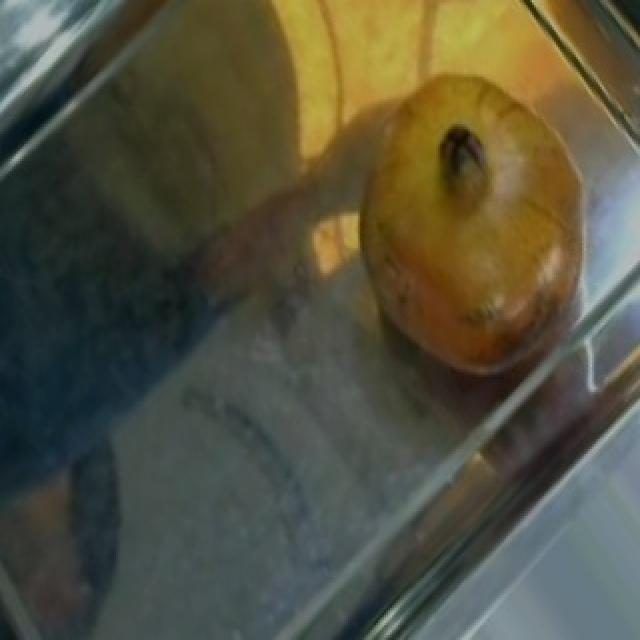fruit: (330, 132, 612, 404)
